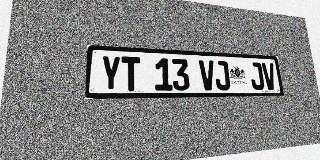1: (154, 58, 173, 91)
3: (172, 59, 190, 91)
J: (214, 61, 231, 90), (249, 62, 265, 90)
T: (122, 56, 141, 91)
V: (199, 60, 216, 90), (261, 63, 277, 90)
Y: (100, 55, 121, 91)
